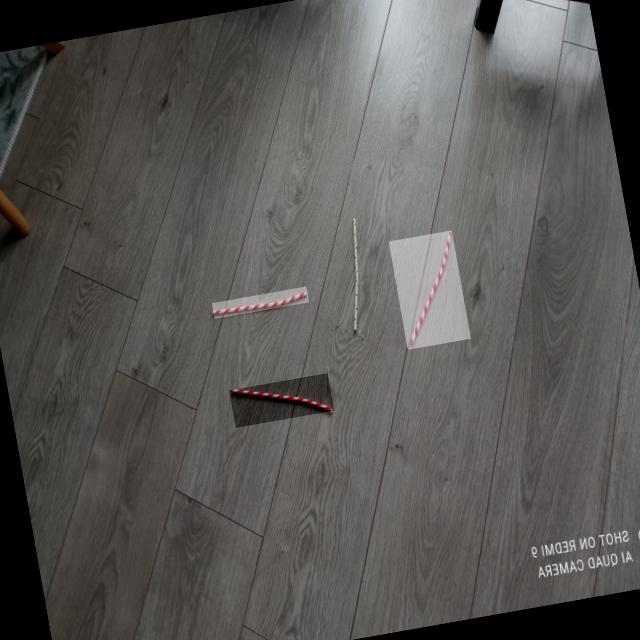Straw: (388, 230, 470, 349), (228, 373, 334, 428), (331, 216, 376, 334), (211, 286, 309, 318)
